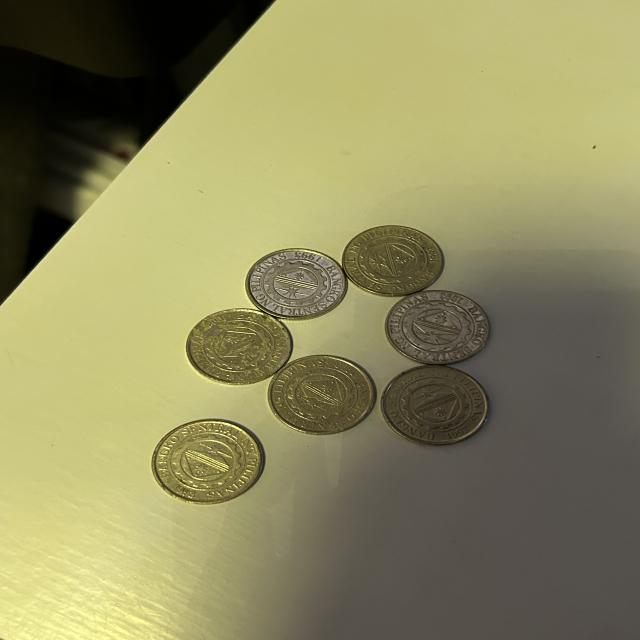1_Old_Back: (394, 374, 480, 436), (163, 429, 248, 491), (347, 231, 430, 294), (395, 298, 481, 356), (255, 256, 338, 314), (197, 318, 276, 374), (282, 370, 366, 422)
